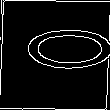O_E: (2, 33, 108, 77)
